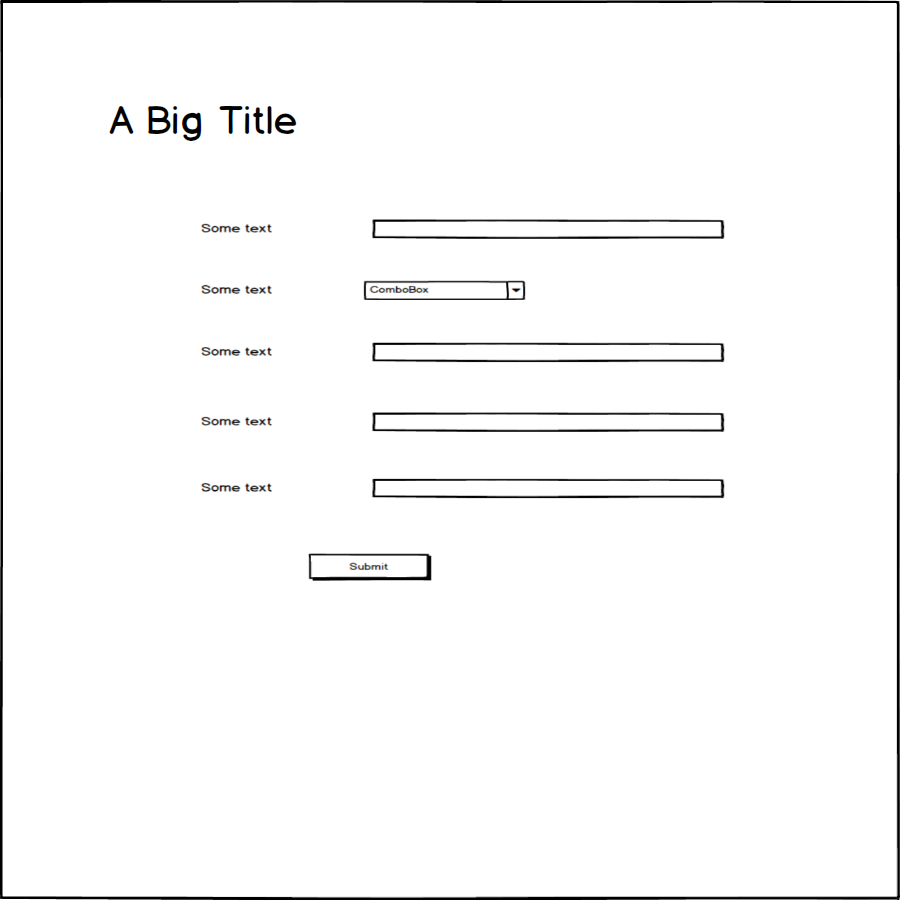button: (305, 551, 434, 582)
h1: (97, 100, 312, 147)
input: (365, 215, 728, 245), (371, 408, 727, 437), (368, 475, 728, 503), (367, 338, 727, 364)
label: (194, 408, 278, 432), (194, 275, 276, 299), (190, 474, 278, 496), (196, 340, 275, 364), (197, 217, 279, 240)
select_box: (359, 275, 527, 306)
